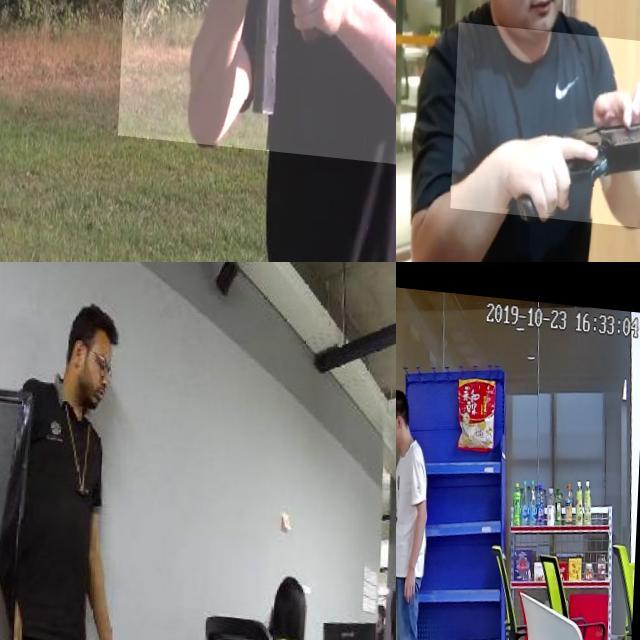gun-knife-thesis - v11 Yolov5 augmented: (122, 0, 396, 175), (454, 19, 640, 244), (396, 505, 411, 550)
